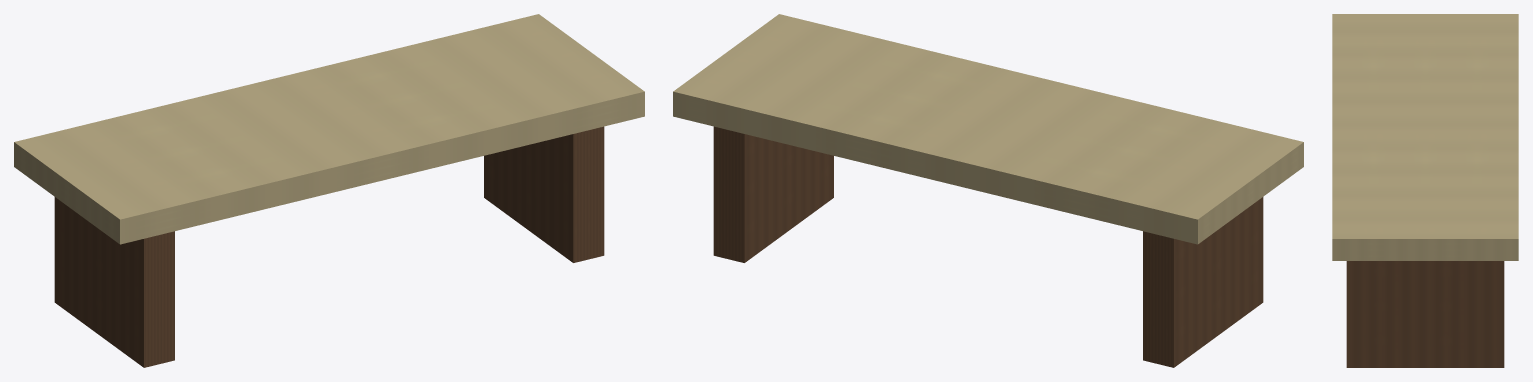
Rendered from atlas100-clockwork-util03.lod2.glb.
3 views of the same model, side by side, from view 1: azimuth 30°, elevation 25°; view 2: azimuth 150°, elevation 25°; view 3: azimuth 270°, elevation 25° (orthographic). The views are drawn at different scales.
Visible parts, largest first — view 1: atlas100-clockwork-util03:part-002, atlas100-clockwork-util03:part-000, atlas100-clockwork-util03:part-001; view 2: atlas100-clockwork-util03:part-002, atlas100-clockwork-util03:part-000, atlas100-clockwork-util03:part-001; view 3: atlas100-clockwork-util03:part-002, atlas100-clockwork-util03:part-001.
Part boxes in pixels (x1,y1,x2,y2): atlas100-clockwork-util03:part-002: [14, 14, 644, 244]; atlas100-clockwork-util03:part-000: [54, 197, 174, 367]; atlas100-clockwork-util03:part-001: [484, 126, 604, 262]; atlas100-clockwork-util03:part-002: [673, 14, 1303, 244]; atlas100-clockwork-util03:part-000: [1143, 197, 1263, 367]; atlas100-clockwork-util03:part-001: [713, 126, 833, 262]; atlas100-clockwork-util03:part-002: [1332, 14, 1518, 260]; atlas100-clockwork-util03:part-001: [1346, 261, 1504, 367].
Bounding box in the file's own units: 2.5 × 0.7397 × 0.8763.
2 materials, 2 textured.
